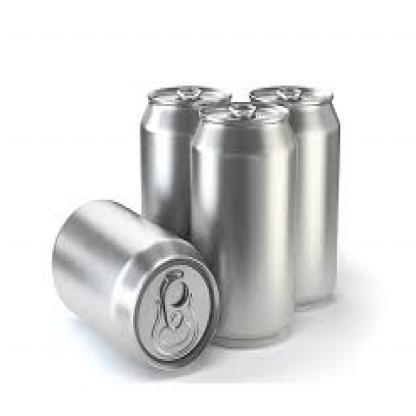METAL: (50, 198, 219, 369), (185, 98, 298, 349), (249, 84, 339, 310), (138, 84, 231, 261)
